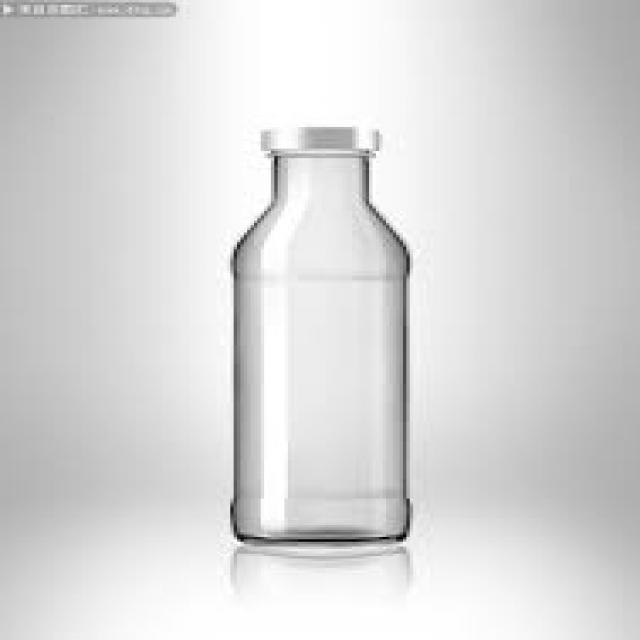Glass-Non-Biodegradable but Recyclable-: (230, 127, 411, 544)
